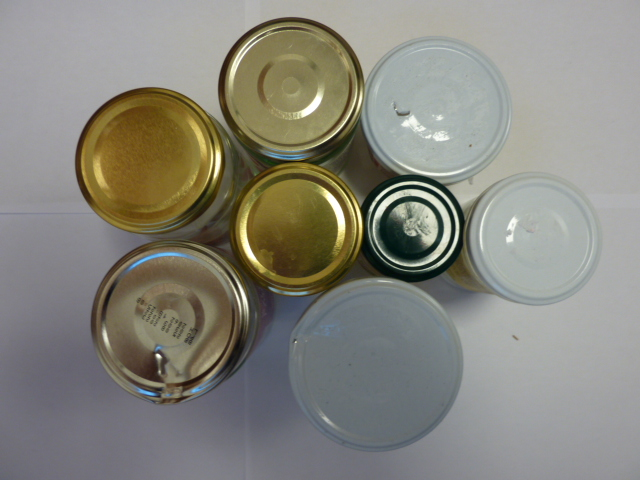damaged: (89, 240, 253, 407)
intact: (75, 86, 227, 235)
